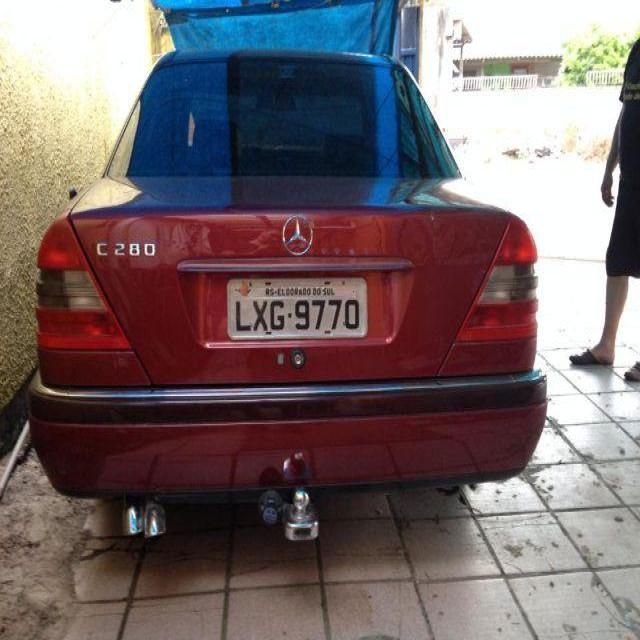Placa: (223, 272, 371, 343)
